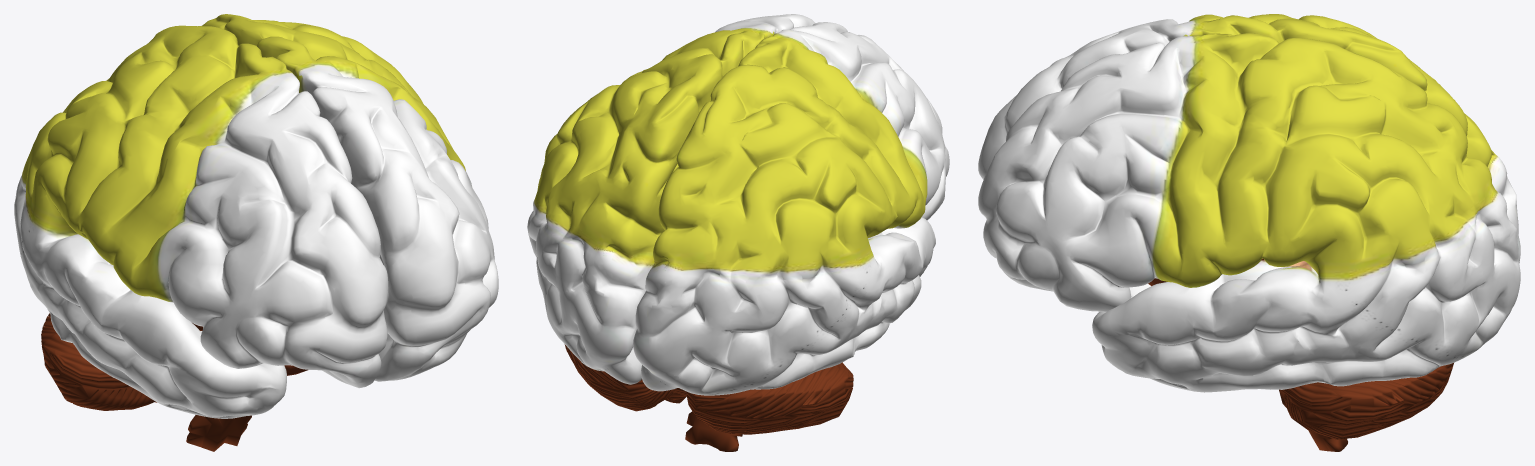
Rendered from brain_parietal.glb.
The picture shows the model from 3 angles, left to right: view 1: azimuth 30°, elevation 25°; view 2: azimuth 150°, elevation 25°; view 3: azimuth 270°, elevation 25°; orthographic projection. The views are drawn at different scales.
Parts seen in each view (by area): view 1: Brain_Part_06, Brain_Part_04, Brain_Part_02, Brain_Part_05; view 2: Brain_Part_06, Brain_Part_04, Brain_Part_02, Brain_Part_05; view 3: Brain_Part_04, Brain_Part_06, Brain_Part_02, Brain_Part_05.
Part boxes in pixels (bbox=[...]): Brain_Part_06: bbox=[14, 25, 388, 418]; Brain_Part_04: bbox=[202, 14, 498, 381]; Brain_Part_02: bbox=[41, 313, 156, 410]; Brain_Part_05: bbox=[186, 323, 251, 451]; Brain_Part_06: bbox=[633, 22, 949, 395]; Brain_Part_04: bbox=[527, 14, 815, 384]; Brain_Part_02: bbox=[564, 344, 853, 434]; Brain_Part_05: bbox=[685, 411, 742, 451]; Brain_Part_04: bbox=[978, 33, 1520, 392]; Brain_Part_06: bbox=[978, 14, 1520, 263]; Brain_Part_02: bbox=[1281, 363, 1453, 439]; Brain_Part_05: bbox=[1148, 258, 1347, 451].
Bounding box in the file's own units: 1.06 × 1.12 × 1.32.
Materials: 1 (1 with a texture image).
